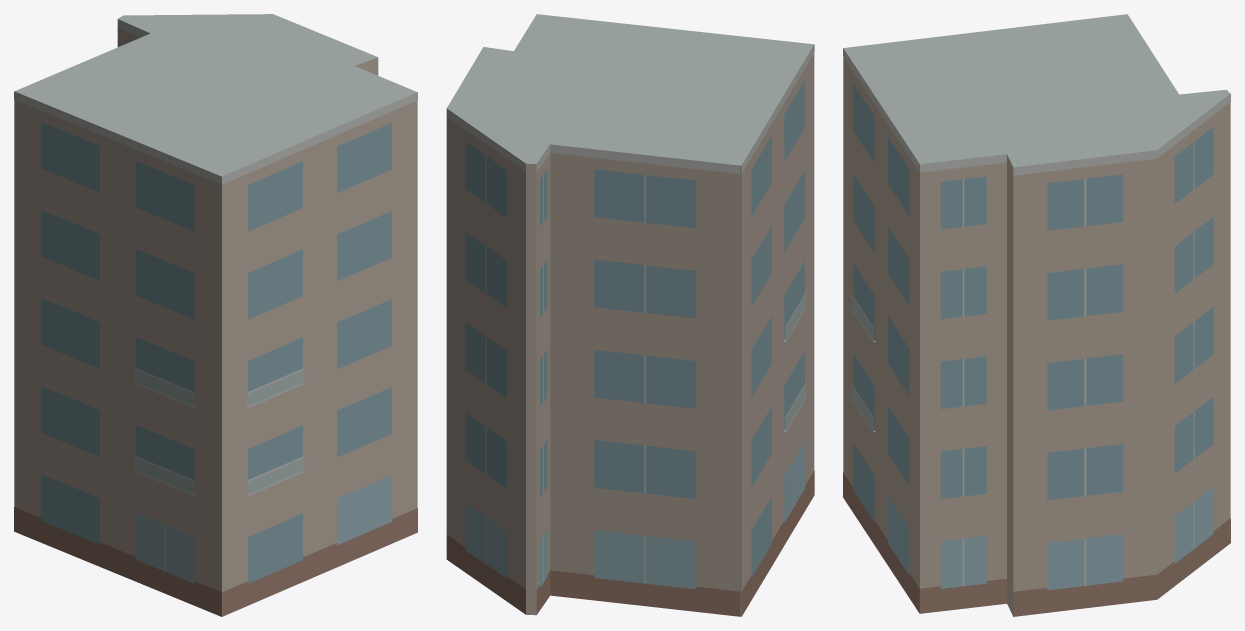
The model's file is survey-upis-32628964.glb.
The picture shows the model from 3 angles, left to right: view 1: azimuth 30°, elevation 25°; view 2: azimuth 150°, elevation 25°; view 3: azimuth 270°, elevation 25°; orthographic projection. The views are drawn at different scales.
Parts seen in each view (by area): view 1: survey-upis-32628964.tmp; view 2: survey-upis-32628964.tmp; view 3: survey-upis-32628964.tmp.
Boxes of the visible parts, <box> form: survey-upis-32628964.tmp: <box>14,14,417,616</box>; survey-upis-32628964.tmp: <box>446,14,814,616</box>; survey-upis-32628964.tmp: <box>843,14,1230,616</box>.
Bounding box in the file's own units: 9.64 × 13.16 × 10.29.
